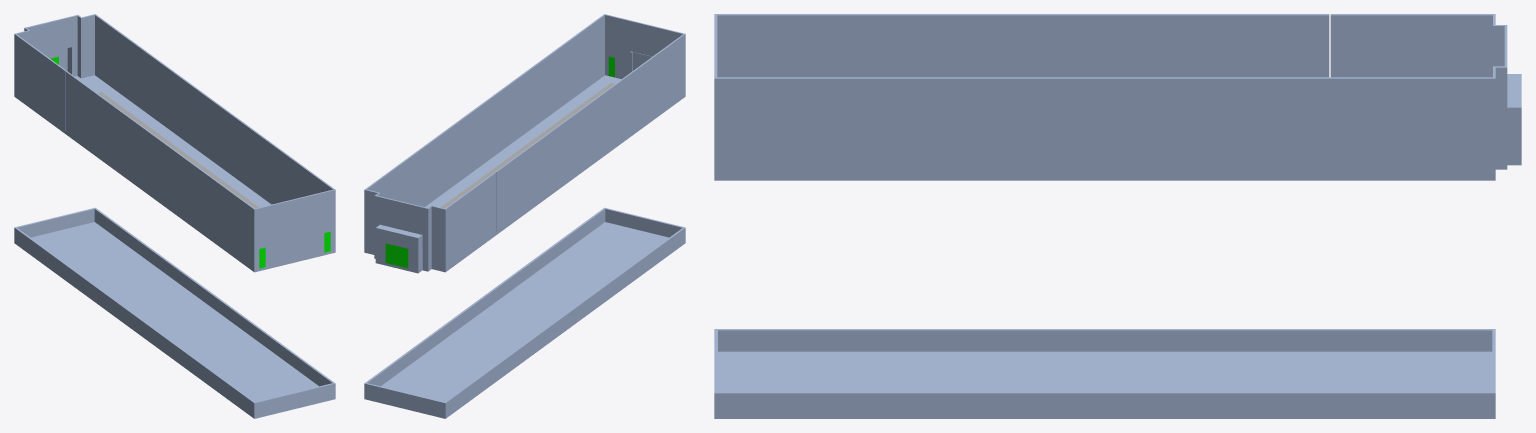
The model's file is Pump_Station_2_expansion.glb.
3 views of the same model, side by side, from view 1: azimuth 30°, elevation 25°; view 2: azimuth 150°, elevation 25°; view 3: azimuth 270°, elevation 25° (orthographic). The views are drawn at different scales.
Visible parts, largest first — view 1: Floor1, Basement1; view 2: Floor1, Basement1; view 3: Floor1, Basement1.
Part boxes in pixels (x1,y1,x2,y2): Floor1: [14, 14, 335, 272]; Basement1: [14, 207, 335, 418]; Floor1: [364, 14, 685, 273]; Basement1: [364, 207, 685, 418]; Floor1: [714, 14, 1521, 180]; Basement1: [714, 329, 1495, 418].
Bounding box in the file's own units: 13 × 32 × 68.75.
